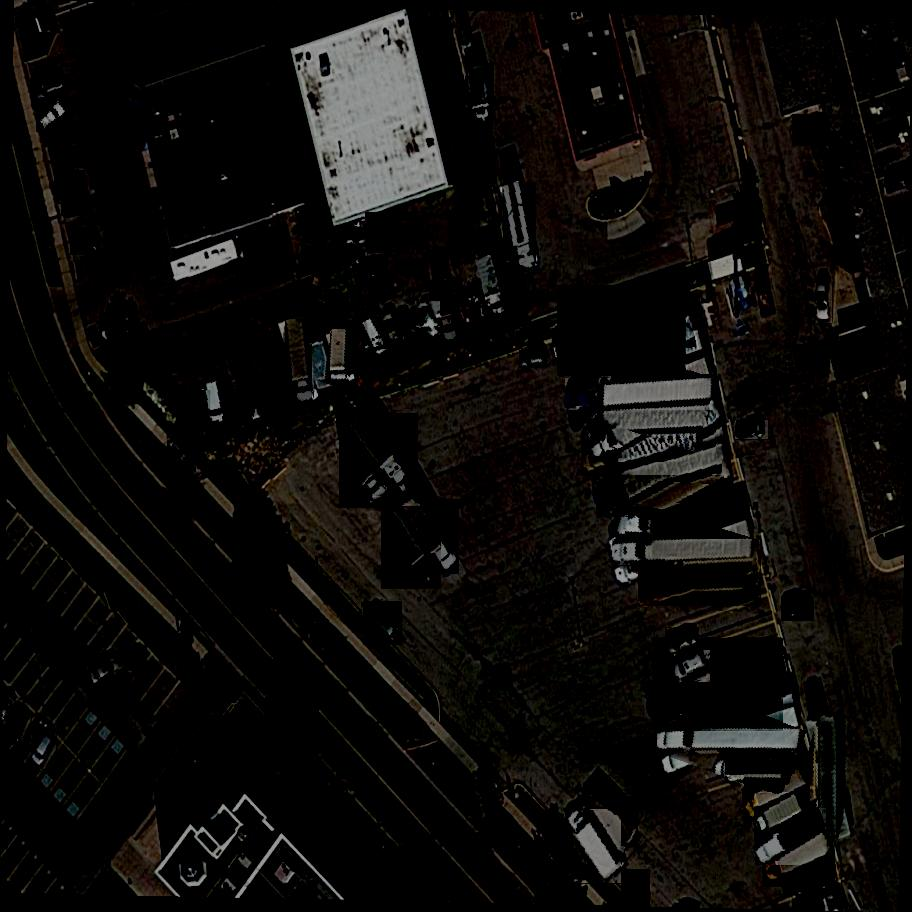large-vehicle: (650, 638, 786, 733), (556, 286, 688, 377), (595, 429, 728, 519), (588, 374, 718, 462), (581, 415, 728, 477), (637, 549, 763, 606), (349, 414, 421, 498), (378, 506, 443, 590), (564, 378, 714, 410), (401, 499, 461, 574), (565, 809, 624, 884), (752, 809, 828, 866), (760, 832, 837, 887), (339, 429, 389, 508), (612, 539, 757, 566), (743, 766, 812, 821), (657, 729, 801, 752), (579, 796, 640, 847), (503, 182, 537, 272), (753, 793, 811, 838), (818, 714, 839, 837), (285, 318, 314, 406), (474, 253, 510, 320), (430, 280, 461, 343), (467, 64, 496, 124), (725, 751, 795, 775), (331, 329, 350, 385), (236, 365, 252, 423)
small-vehicle: (359, 601, 407, 645), (98, 313, 142, 349), (361, 313, 394, 360), (85, 652, 128, 687), (672, 651, 713, 684), (620, 870, 654, 908), (3, 698, 31, 744), (364, 212, 394, 253), (36, 99, 72, 133), (29, 731, 60, 770), (30, 74, 70, 104), (415, 301, 444, 342), (354, 257, 390, 290), (793, 114, 829, 146), (205, 378, 228, 427), (348, 318, 375, 359), (184, 391, 212, 430), (122, 647, 148, 688), (665, 628, 702, 655), (54, 176, 90, 202), (379, 312, 403, 351), (394, 309, 416, 347), (336, 244, 369, 269), (780, 600, 815, 621), (40, 127, 80, 143), (816, 283, 832, 323), (342, 227, 371, 248), (62, 197, 94, 216), (408, 310, 425, 345), (735, 421, 768, 439), (70, 237, 100, 255), (520, 350, 546, 368)
